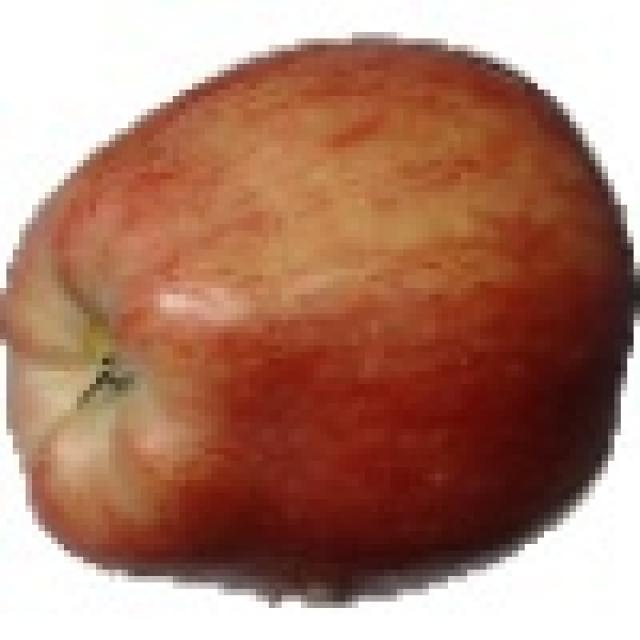apple: (0, 33, 640, 605)
